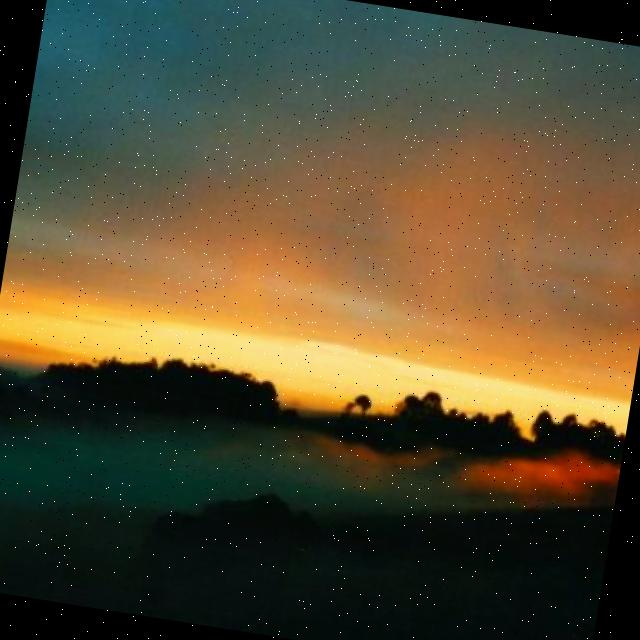Ns: (1, 1, 640, 411)
